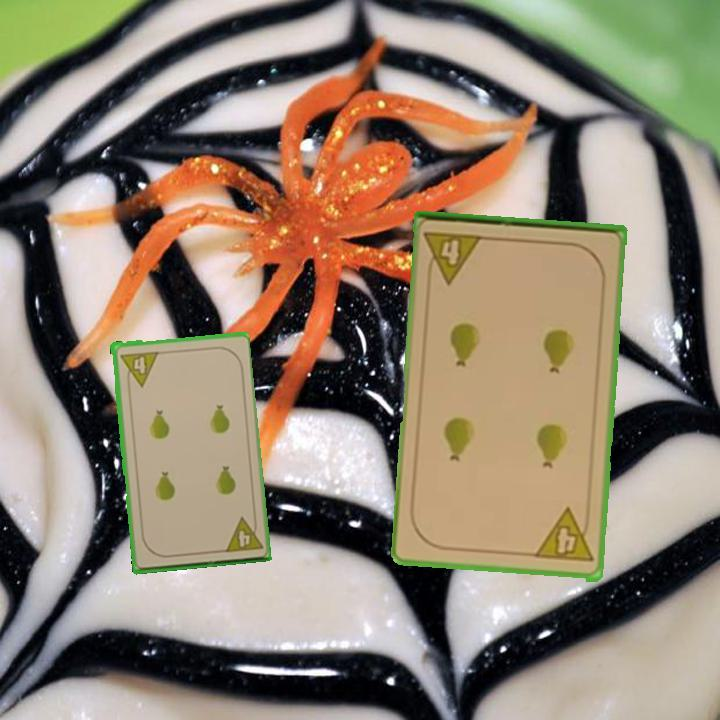4p: (530, 506, 596, 566), (421, 228, 486, 287), (221, 512, 265, 555), (116, 347, 160, 389)
